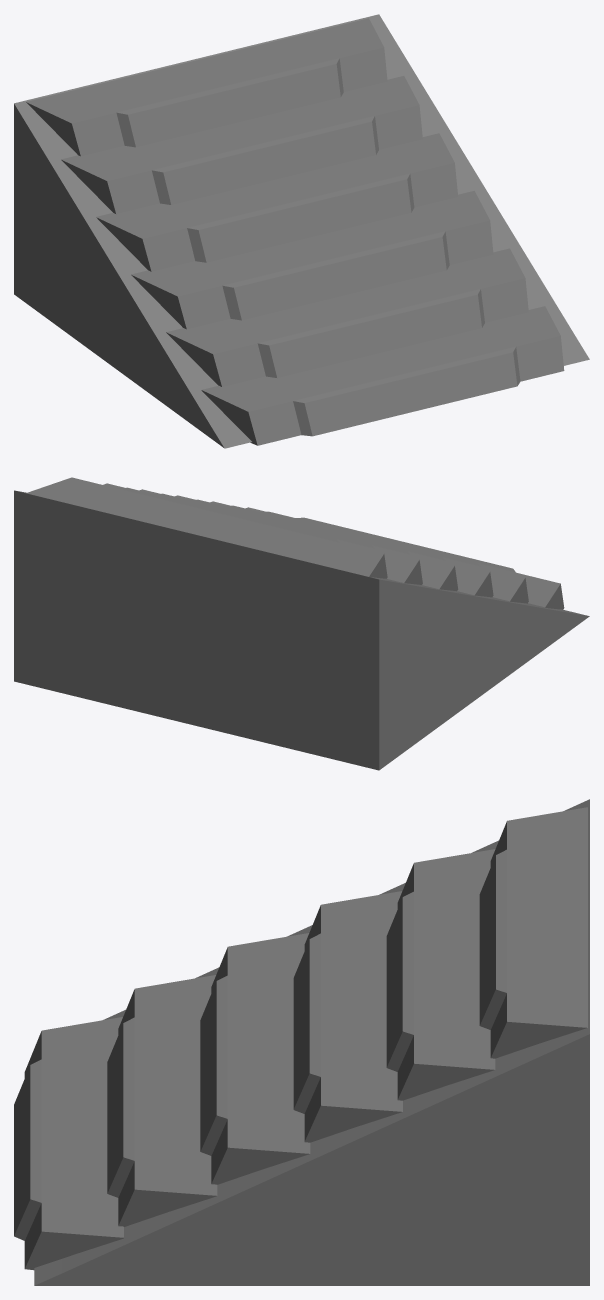
Rendered from q-scifi-mod-platform-stairs-2.glb.
3 renders of one model, top to bottom at view 1: azimuth 30°, elevation 25°; view 2: azimuth 150°, elevation 25°; view 3: azimuth 270°, elevation 25°, orthographic. The views are drawn at different scales.
Parts seen in each view (by area): view 1: Platform_Stairs_2; view 2: Platform_Stairs_2; view 3: Platform_Stairs_2.
Part boxes in pixels (x1,y1,x2,y2): Platform_Stairs_2: (14,14,589,448); Platform_Stairs_2: (14,477,589,770); Platform_Stairs_2: (14,799,589,1285).
Size of the model in its own units: 2 by 1.01 by 2.07.
Materials: 2 (2 with a texture image).
